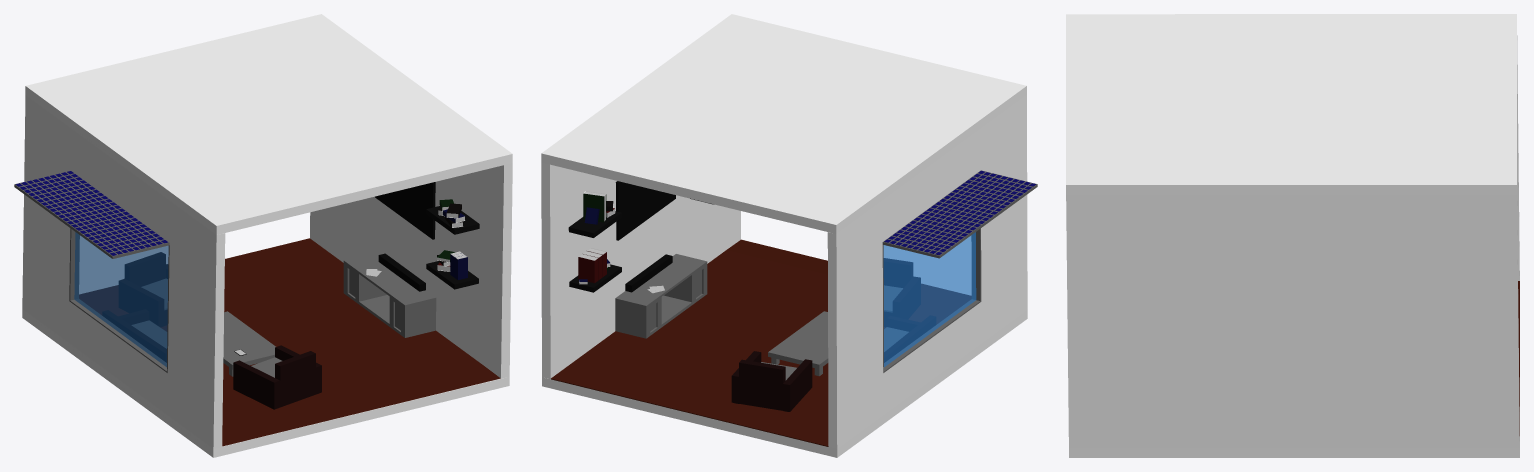
File: pv overhang.glb
3 views of the same model, side by side, from view 1: azimuth 30°, elevation 25°; view 2: azimuth 150°, elevation 25°; view 3: azimuth 270°, elevation 25° (orthographic). The views are drawn at different scales.
Parts seen in each view (by area): view 1: object 418, Cube (×13), object 419, object 421, object 416, object 420; view 2: object 418, Cube (×13), object 419, object 421, object 416, object 420; view 3: object 421, object 418, object 420.
Part boxes in pixels (x1=…): object 418: x1=25, y1=14, x2=512, y2=234; Cube (×13): x1=14, y1=170, x2=500, y2=446; object 419: x1=22, y1=95, x2=225, y2=448; object 421: x1=310, y1=163, x2=512, y2=378; object 416: x1=74, y1=232, x2=168, y2=366; object 420: x1=22, y1=309, x2=509, y2=457; object 418: x1=541, y1=14, x2=1026, y2=233; Cube (×13): x1=551, y1=170, x2=1037, y2=446; object 419: x1=827, y1=95, x2=1027, y2=448; object 421: x1=541, y1=162, x2=740, y2=378; object 416: x1=883, y1=232, x2=976, y2=366; object 420: x1=542, y1=310, x2=1027, y2=457; object 421: x1=1066, y1=195, x2=1519, y2=447; object 418: x1=1066, y1=14, x2=1516, y2=195; object 420: x1=1069, y1=447, x2=1519, y2=457.
Size of the model in its own units: 20.29 by 12.77 by 19.12.
